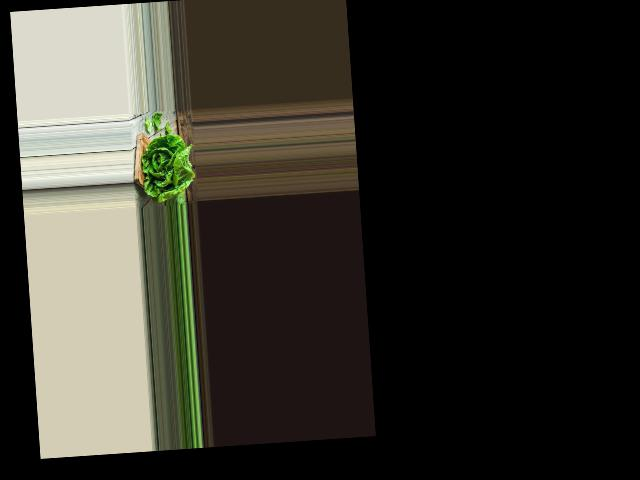lettuce: (137, 136, 195, 204)
